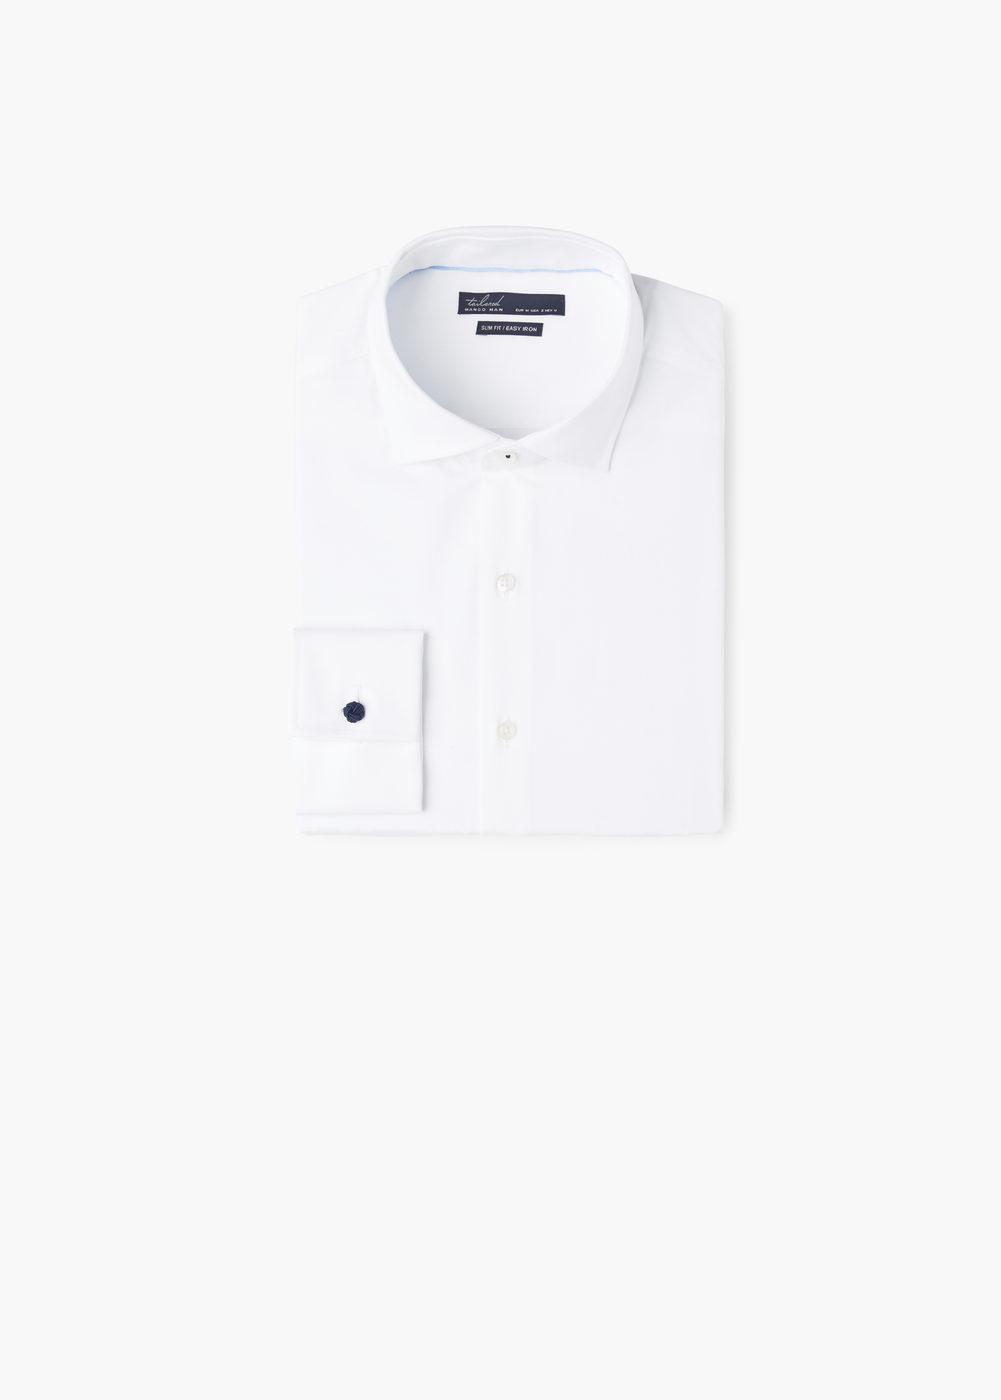teeshirt: (253, 214, 757, 859)
